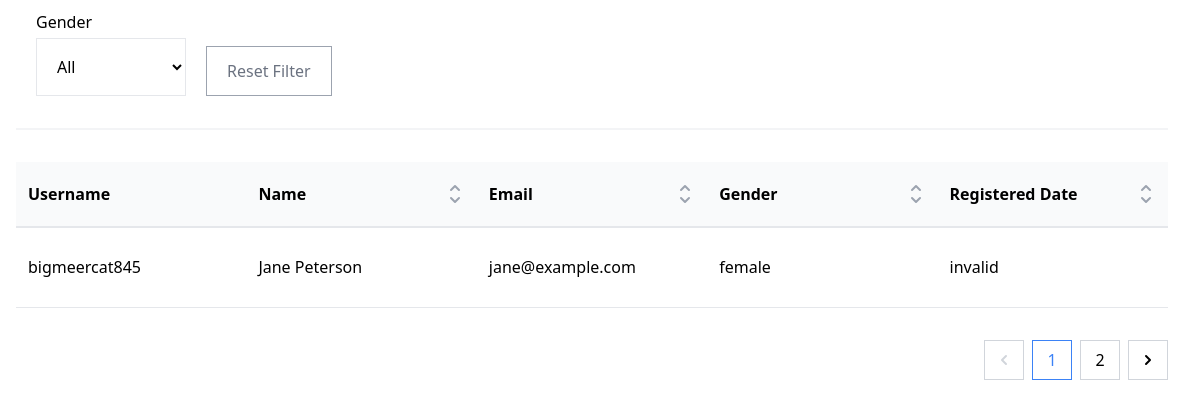
Test: testing Home Page › should go to page 2
Click the button "2". click: point(1100, 360)
box: [1080,340,1120,380]
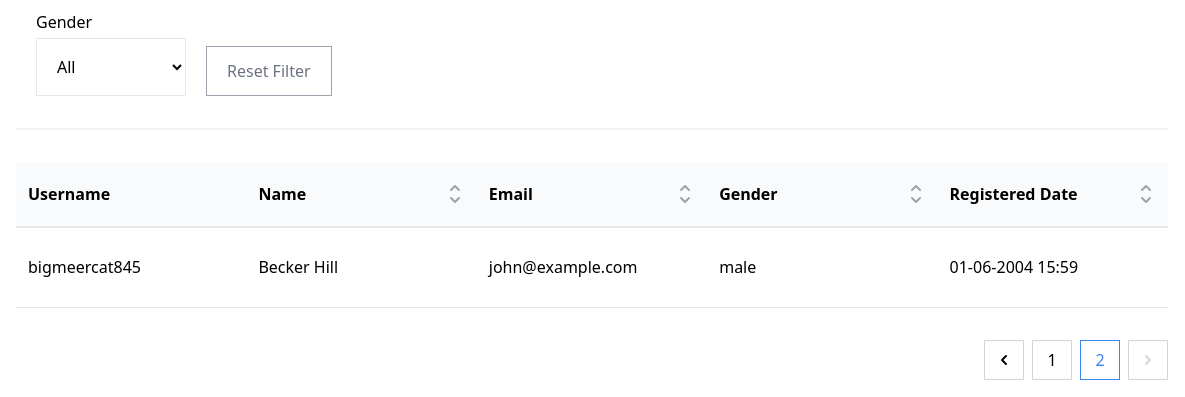
expect the text "Becker Hill" is shown: met, box [246,227,477,307]
